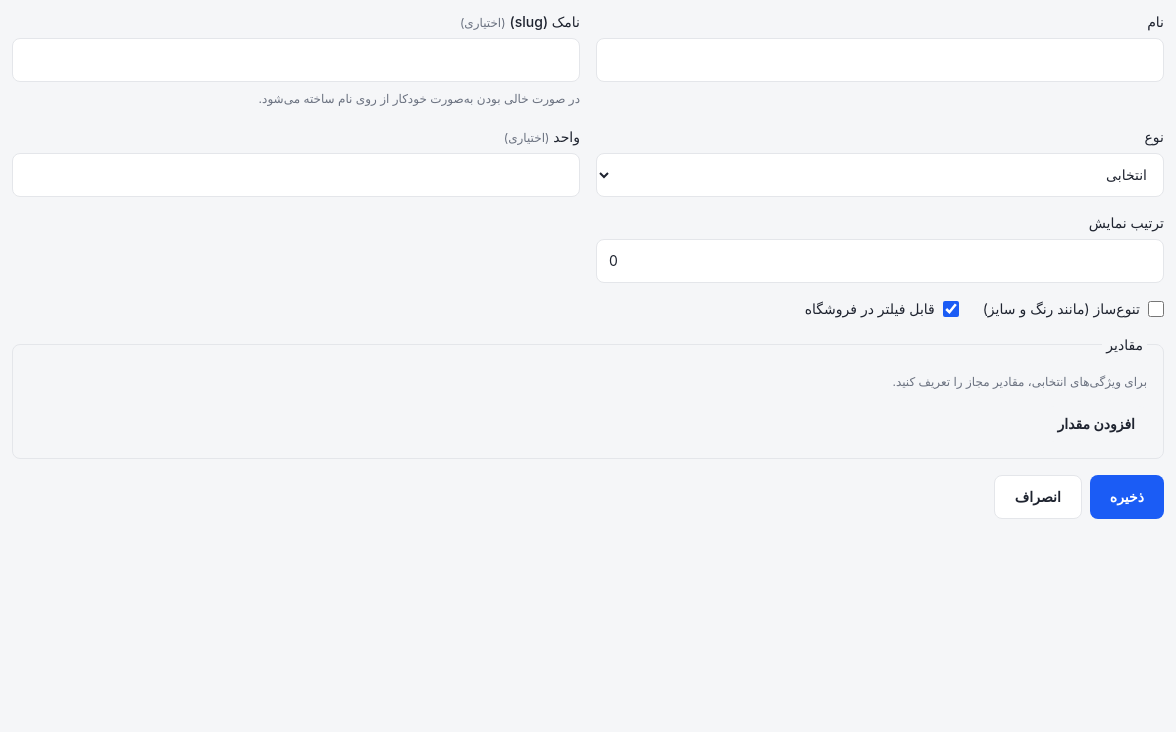
Test: AttributeForm with values editor › requires at least one value for SELECT attributes
The image size is (1176, 732).
Type "سایز" into the field labelled "نام" at (880, 60), box [596,38,1164,82]
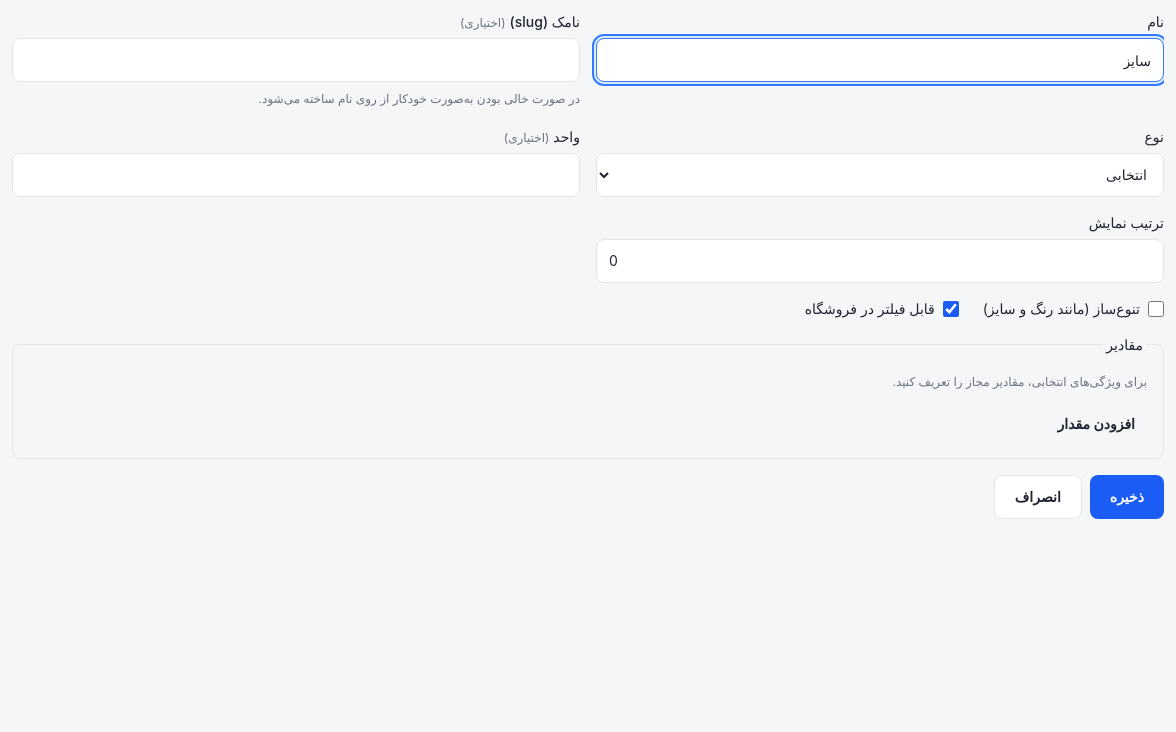
Click the button "ذخیره" at (1127, 497), box [1090,475,1164,519]
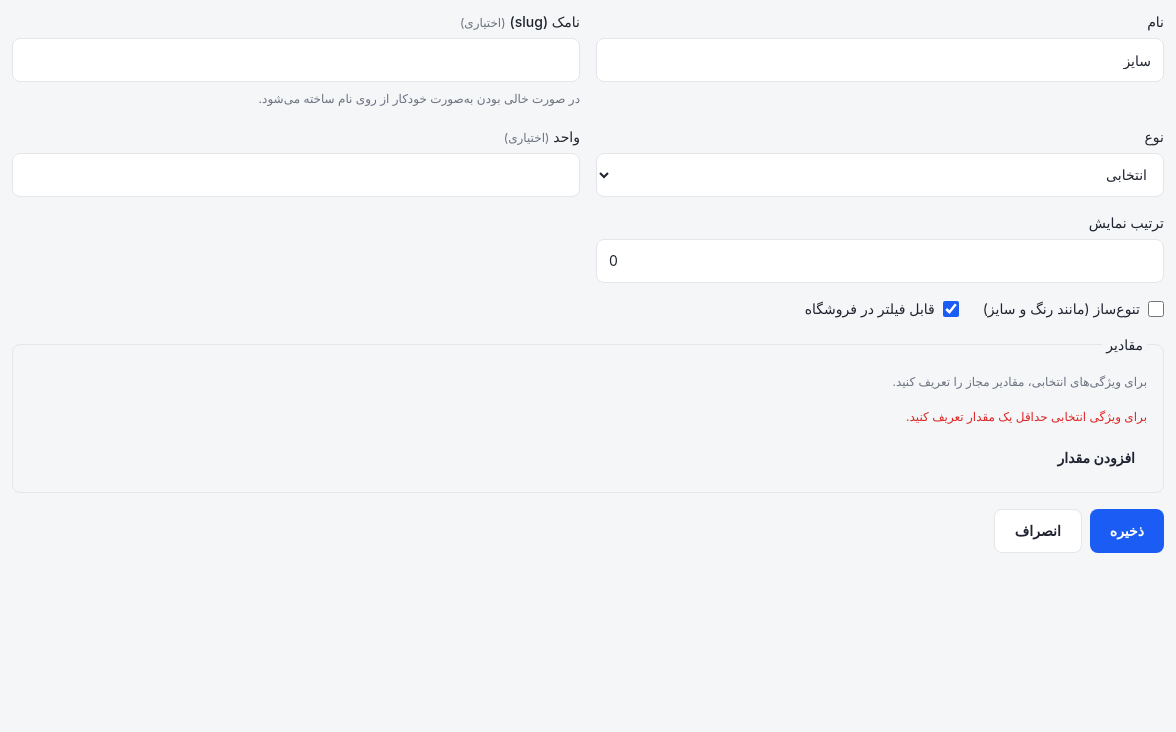
Expected: the text "برای ویژگی انتخابی حداقل یک مقدار تعریف کنید." is shown, [906,409,1147,424]
